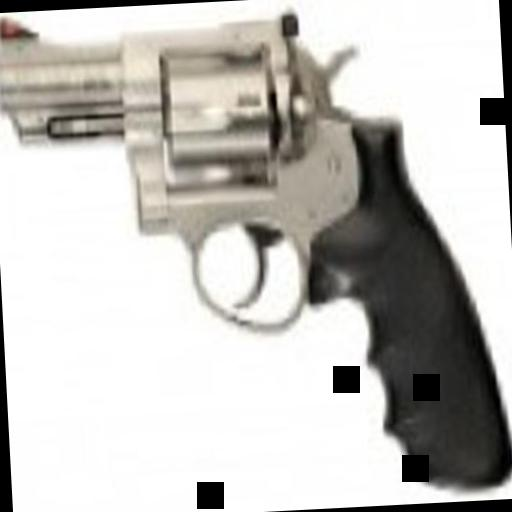Handgun: (0, 0, 507, 511)
